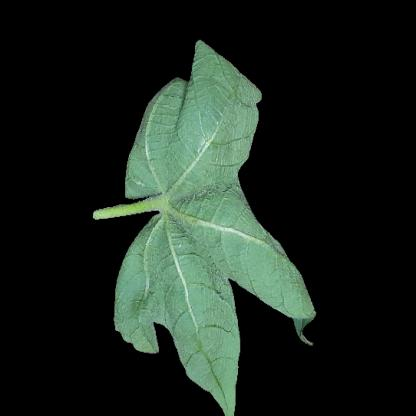curl_stage2: (149, 226, 225, 321), (154, 110, 239, 188), (180, 323, 235, 383), (197, 57, 248, 121), (260, 263, 306, 319), (227, 215, 262, 264)
